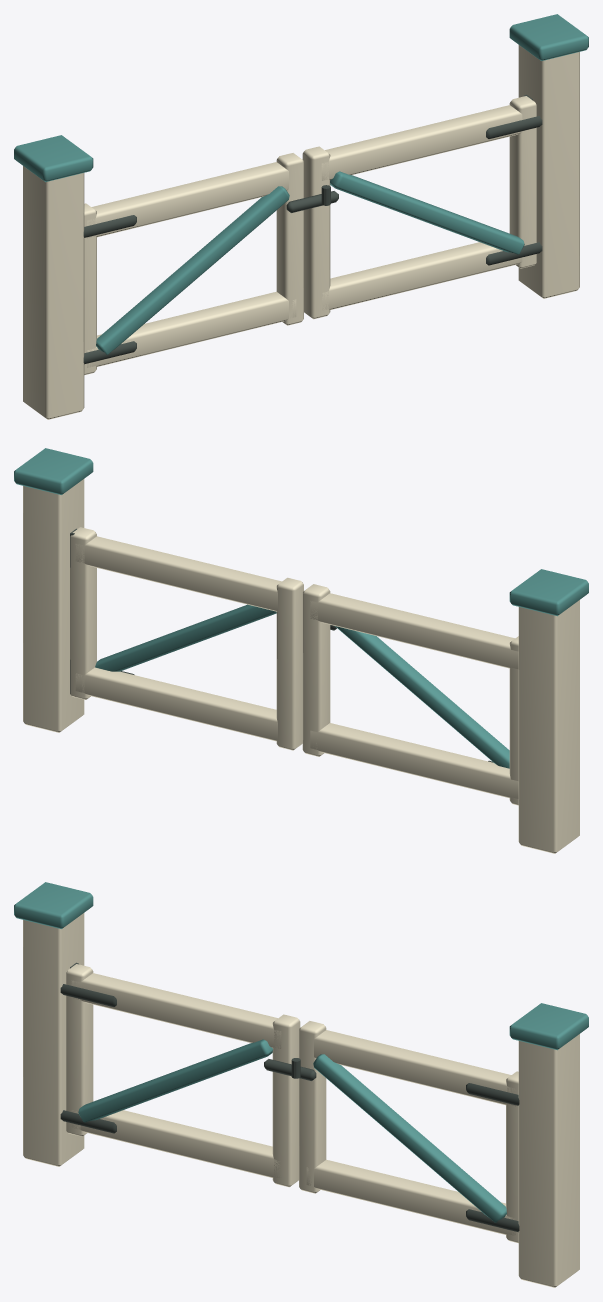
The model's file is farm_art_gate_painted.glb.
3 views of the same model, one above another, from view 1: azimuth 30°, elevation 25°; view 2: azimuth 150°, elevation 25°; view 3: azimuth 330°, elevation 25° (orthographic).
Visible parts, largest first — view 1: Gateway post.002, Gateway post.003, Gate horizontal rail.007, Gate horizontal rail.005, Gate horizontal rail.006, Gate horizontal rail.004, Gate diagonal brace.002, Gate upright.006, Gate diagonal brace.003, Gate upright.004, Gate upright.007, Gateway cap.002 (+6 smaller); view 2: Gateway post.002, Gateway post.003, Gate horizontal rail.005, Gate horizontal rail.004, Gate horizontal rail.007, Gate horizontal rail.006, Gate upright.006, Gate diagonal brace.002, Gate upright.004, Gate upright.007, Gate diagonal brace.003, Gateway cap.002 (+2 smaller); view 3: Gateway post.003, Gateway post.002, Gate horizontal rail.005, Gate horizontal rail.007, Gate horizontal rail.004, Gate horizontal rail.006, Gate diagonal brace.003, Gate upright.004, Gate diagonal brace.002, Gate upright.006, Gate upright.005, Gateway cap.003 (+7 smaller).
Part boxes in pixels (x1,y1,x2,y2): Gateway post.002: (23, 166, 84, 419); Gateway post.003: (518, 45, 579, 298); Gate horizontal rail.007: (321, 105, 522, 180); Gate horizontal rail.005: (87, 162, 288, 238); Gate horizontal rail.006: (322, 242, 522, 309); Gate horizontal rail.004: (87, 291, 296, 367); Gate diagonal brace.002: (96, 186, 289, 354); Gate upright.006: (302, 146, 330, 319); Gate diagonal brace.003: (330, 171, 524, 254); Gate upright.004: (276, 153, 303, 325); Gate upright.007: (509, 96, 536, 268); Gateway cap.002: (14, 135, 93, 182); Gateway post.002: (518, 600, 579, 853); Gateway post.003: (23, 479, 84, 732); Gate horizontal rail.005: (310, 593, 518, 669); Gate horizontal rail.004: (310, 723, 518, 798); Gate horizontal rail.007: (75, 536, 281, 611); Gate horizontal rail.006: (75, 667, 277, 741); Gate upright.006: (276, 577, 303, 750); Gate diagonal brace.002: (335, 626, 509, 768); Gate upright.004: (302, 584, 330, 756); Gate upright.007: (70, 527, 96, 699); Gate diagonal brace.003: (95, 604, 276, 671); Gateway cap.002: (509, 569, 588, 616); Gateway post.003: (518, 1034, 579, 1287); Gateway post.002: (23, 913, 84, 1166); Gate horizontal rail.005: (71, 973, 281, 1048); Gate horizontal rail.007: (314, 1030, 515, 1106); Gate horizontal rail.004: (71, 1110, 279, 1177); Gate horizontal rail.006: (306, 1159, 515, 1235); Gate diagonal brace.003: (313, 1054, 506, 1222); Gate upright.004: (272, 1014, 300, 1187); Gate diagonal brace.002: (78, 1039, 272, 1122); Gate upright.006: (299, 1021, 326, 1193); Gate upright.005: (66, 964, 93, 1136); Gateway cap.003: (509, 1003, 588, 1050).
Size of the model in its own units: 3.35 by 1.51 by 0.354.
